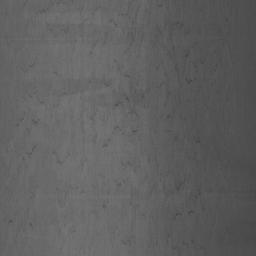Silk spot: (16, 0, 234, 171), (88, 140, 225, 248), (0, 139, 38, 179), (55, 185, 85, 234), (148, 232, 206, 256), (35, 0, 107, 17), (48, 150, 89, 170), (4, 215, 33, 237), (213, 18, 230, 49), (112, 125, 140, 140)
